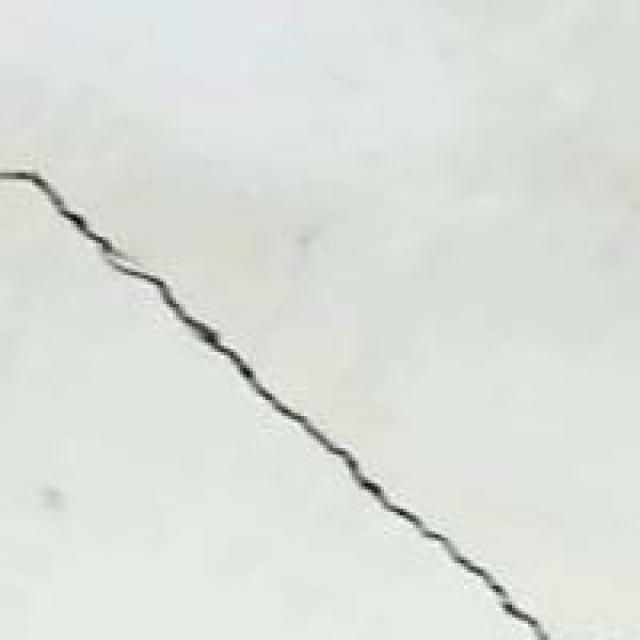crack: (0, 150, 550, 636)
